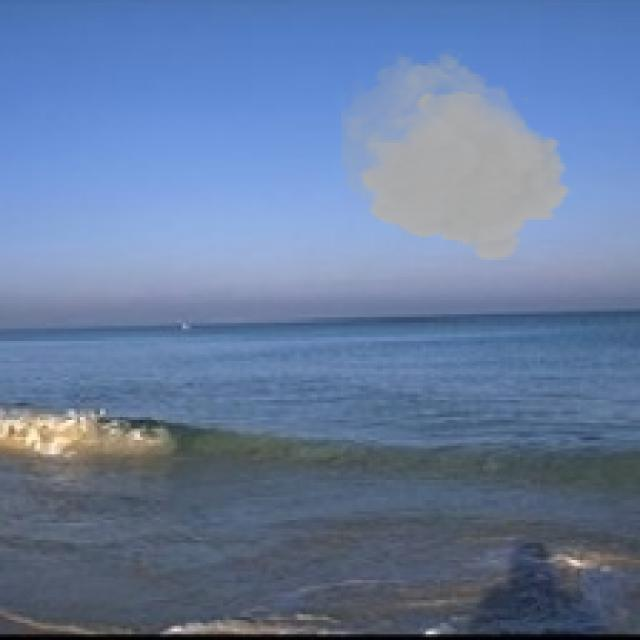smoke: (340, 46, 574, 263)
